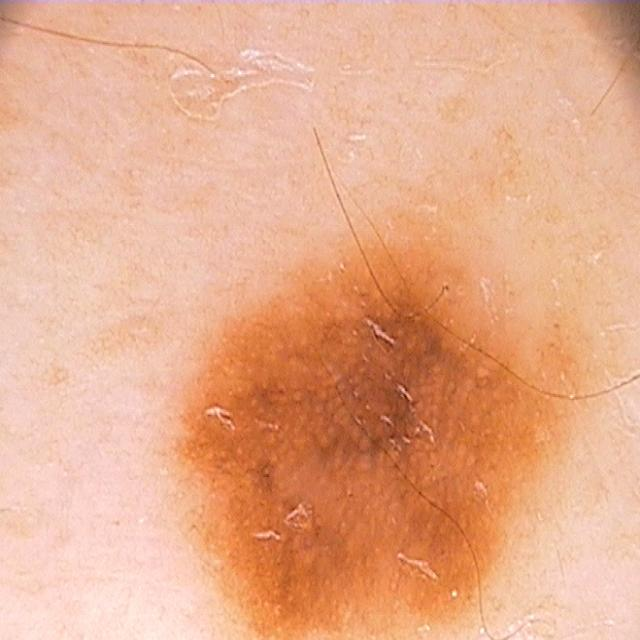Melanoma: (124, 216, 612, 640)
